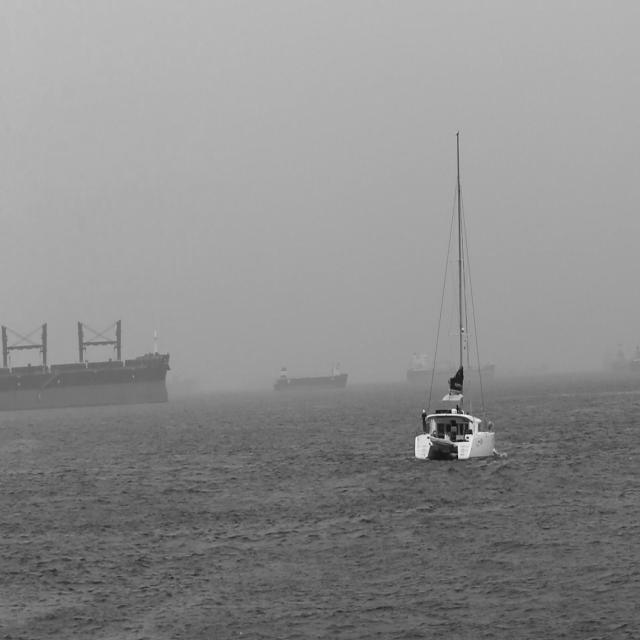boat: (413, 130, 496, 459)
ship: (1, 320, 170, 404), (407, 353, 496, 381), (275, 364, 351, 389), (612, 342, 638, 376)
